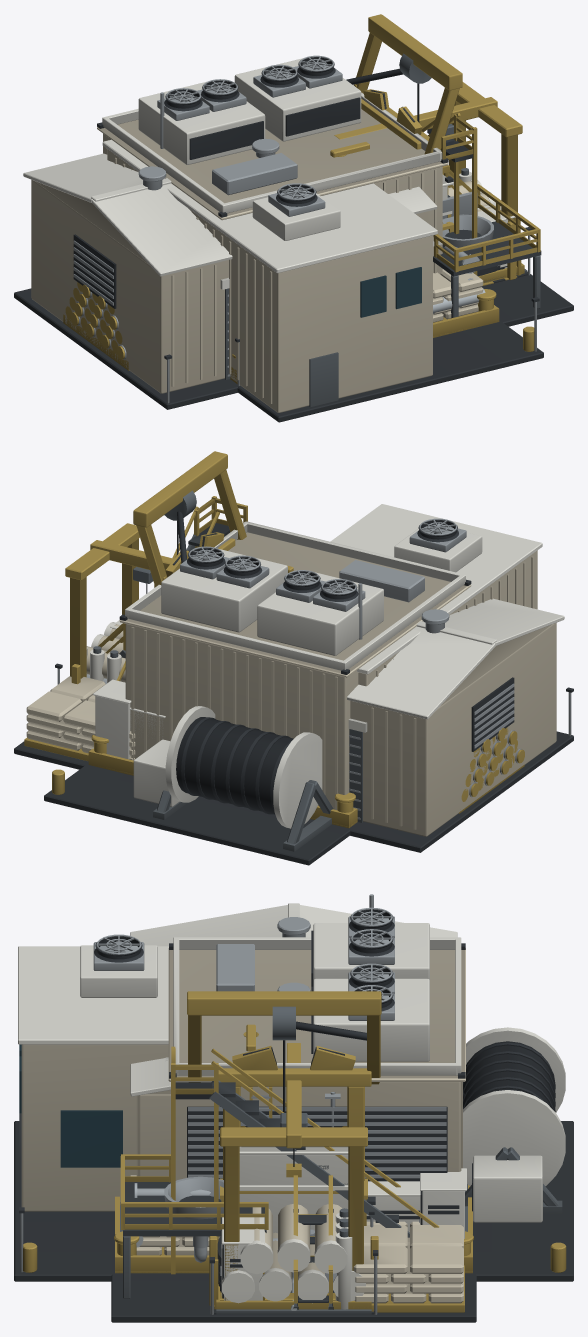
The model's file is buildings.glb.
The picture shows the model from 3 angles, top to bottom: view 1: azimuth 30°, elevation 25°; view 2: azimuth 150°, elevation 25°; view 3: azimuth 270°, elevation 25°; orthographic projection. The views are drawn at different scales.
Visible parts, largest first — view 1: bld_2x3_a, bld_3x2_a, bld_2x2_a, bld_3x1_a, bld_2x2_f, bld_3x1_c, bld_3x1_d, bld_3x1_b, bld_2x2_b; view 2: bld_2x2_a, bld_3x2_a, bld_2x3_a, bld_3x1_a, bld_2x2_b, bld_2x2_f, bld_3x1_b, bld_3x1_c, bld_2x2_e; view 3: bld_2x3_a, bld_2x2_a, bld_3x2_a, bld_3x1_a, bld_3x1_b, bld_3x1_c, bld_2x2_f, bld_2x2_b, bld_3x1_d, bld_2x1_a.
Boxes of the visible parts, x1=… form: bld_2x3_a: x1=102, y1=14, x2=543, y2=422; bld_3x2_a: x1=14, y1=82, x2=573, y2=409; bld_2x2_a: x1=97, y1=55, x2=500, y2=385; bld_3x1_a: x1=55, y1=173, x2=531, y2=379; bld_2x2_f: x1=230, y1=269, x2=499, y2=383; bld_3x1_c: x1=353, y1=84, x2=528, y2=285; bld_3x1_d: x1=63, y1=260, x2=524, y2=370; bld_3x1_b: x1=442, y1=168, x2=532, y2=282; bld_2x2_b: x1=433, y1=246, x2=485, y2=313; bld_2x2_a: x1=88, y1=496, x2=471, y2=826; bld_3x2_a: x1=14, y1=523, x2=573, y2=852; bld_2x3_a: x1=44, y1=451, x2=542, y2=865; bld_3x1_a: x1=71, y1=622, x2=531, y2=822; bld_2x2_b: x1=93, y1=679, x2=131, y2=759; bld_2x2_f: x1=88, y1=707, x2=357, y2=828; bld_3x1_b: x1=86, y1=620, x2=123, y2=683; bld_3x1_c: x1=154, y1=532, x2=235, y2=587; bld_2x2_e: x1=91, y1=735, x2=355, y2=812; bld_2x3_a: x1=14, y1=894, x2=573, y2=1281; bld_2x2_a: x1=168, y1=907, x2=465, y2=1274; bld_3x2_a: x1=111, y1=903, x2=476, y2=1322; bld_3x1_a: x1=209, y1=1204, x2=378, y2=1322; bld_3x1_b: x1=209, y1=1092, x2=371, y2=1314; bld_3x1_c: x1=214, y1=1046, x2=373, y2=1314; bld_2x2_f: x1=115, y1=1175, x2=472, y2=1273; bld_2x2_b: x1=120, y1=1168, x2=467, y2=1247; bld_3x1_d: x1=214, y1=1225, x2=378, y2=1314; bld_2x1_a: x1=239, y1=1185, x2=348, y2=1193.
Bounding box in the file's own units: 2.89 × 1.58 × 2.88.
